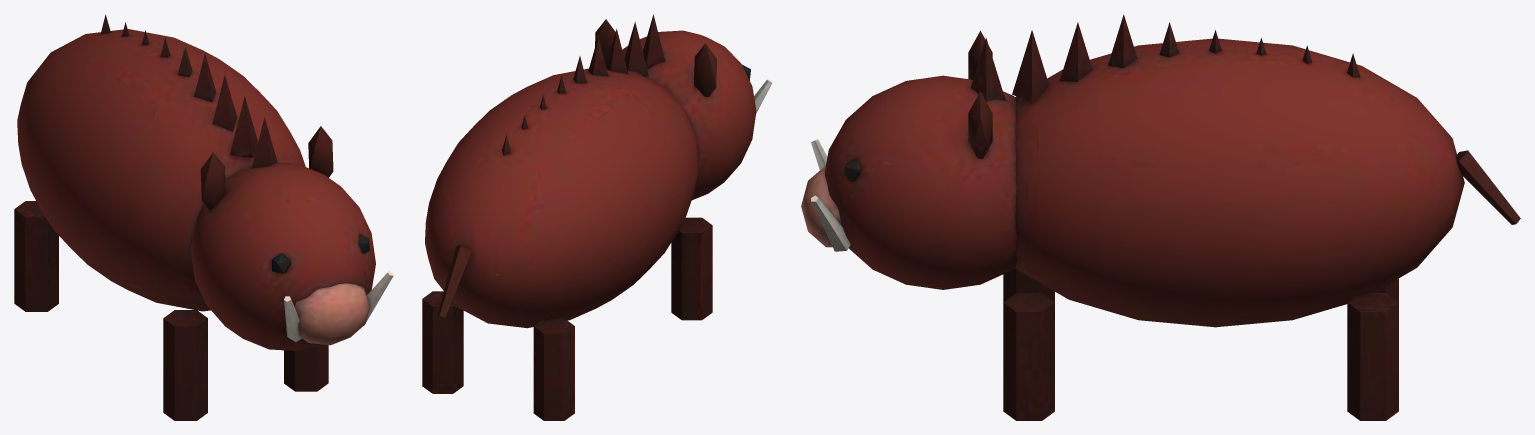
Rendered from jabali.glb.
3 renders of one model, left to right at view 1: azimuth 30°, elevation 25°; view 2: azimuth 150°, elevation 25°; view 3: azimuth 270°, elevation 25°, orthographic. The views are drawn at different scales.
Parts seen in each view (by area): view 1: jabali; view 2: jabali; view 3: jabali.
Boxes of the visible parts, box(x1,y1,x2,y2) form: jabali: box(14, 14, 393, 420); jabali: box(422, 14, 772, 420); jabali: box(801, 14, 1520, 420).
Size of the model in its own units: 0.96 by 1.4 by 2.51.
1 material, 1 textured.
